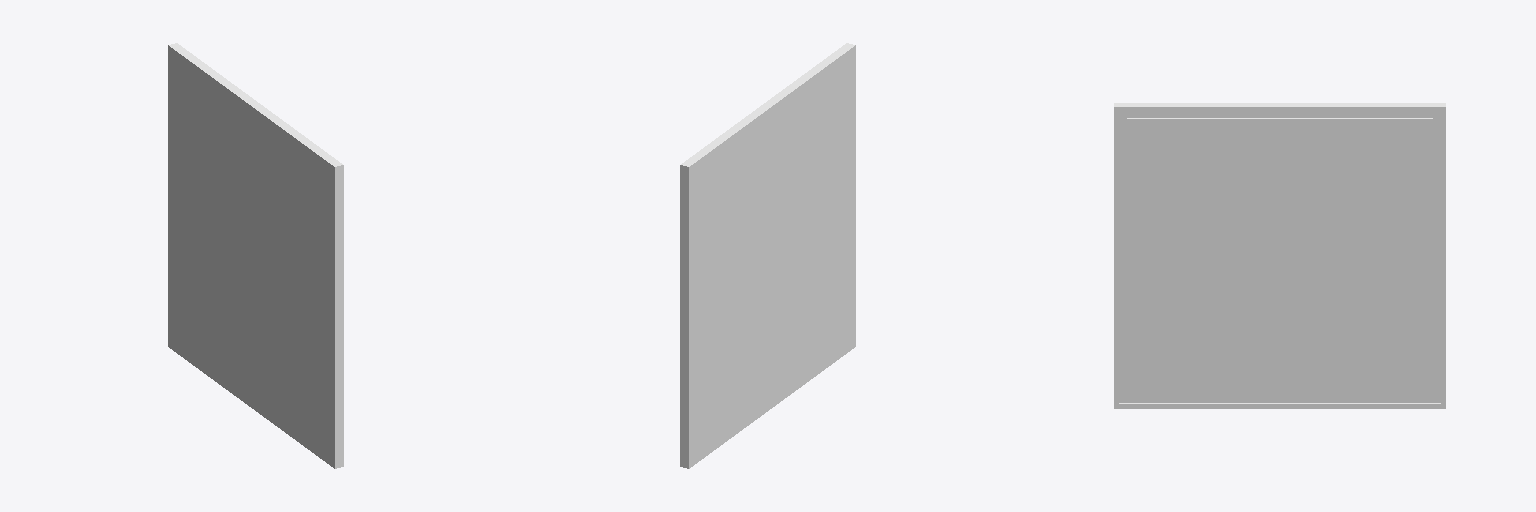
Rendered from WallTile.obj.
The picture shows the model from 3 angles: view 1: azimuth 30°, elevation 25°; view 2: azimuth 150°, elevation 25°; view 3: azimuth 270°, elevation 25°; orthographic projection.
Parts seen in each view (by area): view 1: object 1; view 2: object 1; view 3: object 1.
Part boxes in pixels (x1,y1,x2,y2): object 1: (168,43,343,468); object 1: (680,43,855,468); object 1: (1114,103,1445,408).
Size of the model in its own units: 0.4 by 12.8 by 12.8.